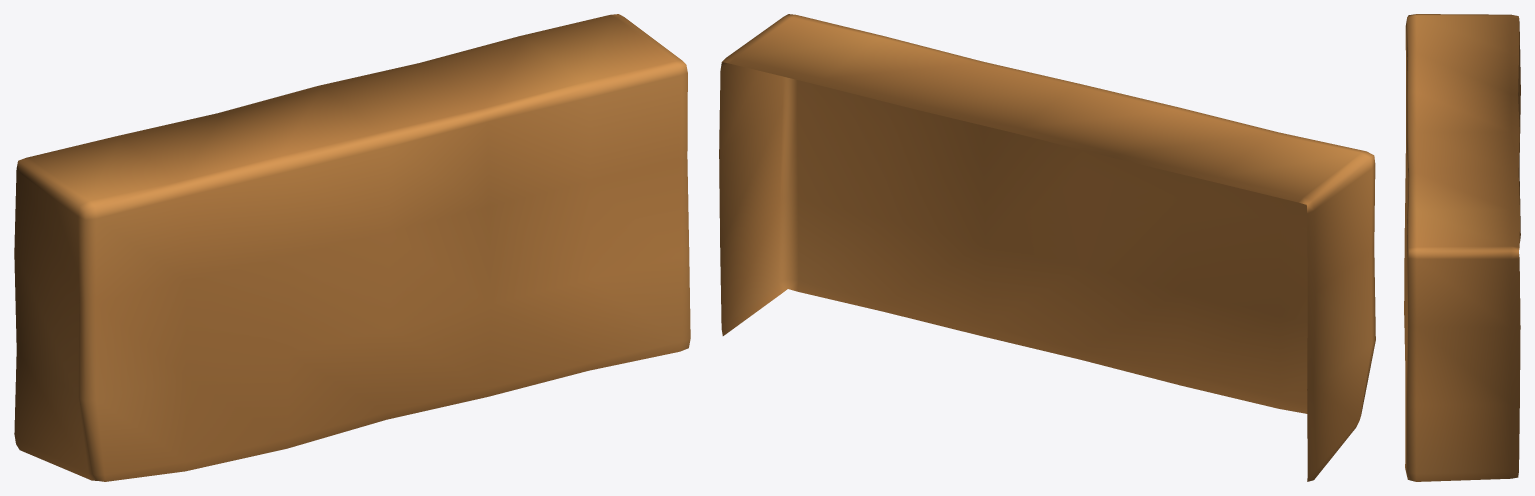
File: block_l1.glb
3 views of the same model, side by side, from view 1: azimuth 30°, elevation 25°; view 2: azimuth 150°, elevation 25°; view 3: azimuth 270°, elevation 25° (orthographic). The views are drawn at different scales.
Visible parts, largest first — view 1: block_l1; view 2: block_l1; view 3: block_l1.
Part boxes in pixels (left/top/right/bottom): block_l1: left=14, top=14, right=690, bottom=481; block_l1: left=719, top=14, right=1375, bottom=481; block_l1: left=1404, top=14, right=1520, bottom=481.
Bounding box in the file's own units: 2.22 × 1.01 × 0.4573.
